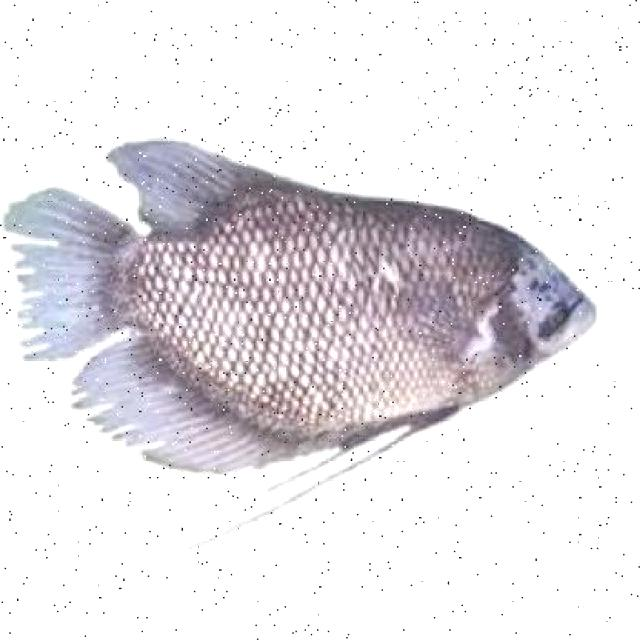gurame: (0, 122, 602, 484)
